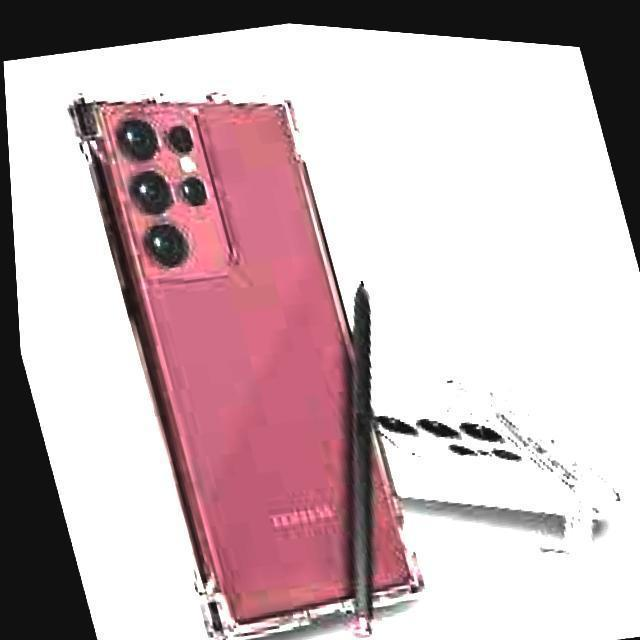phone: (72, 82, 426, 628)
